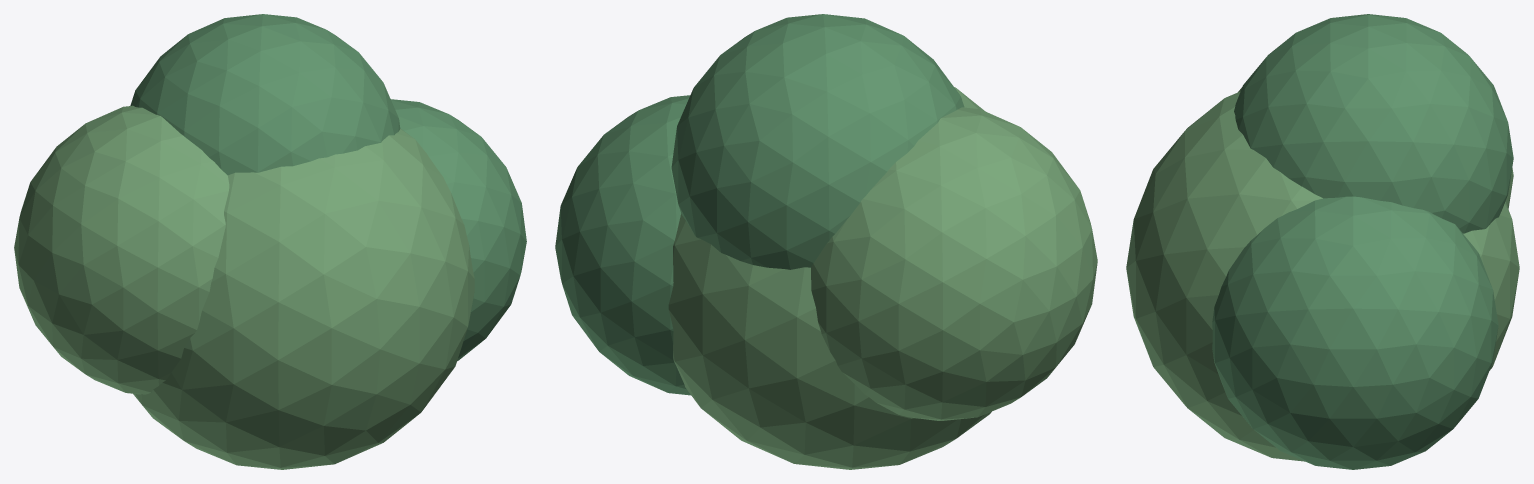
File: tropical_bush.glb
The picture shows the model from 3 angles, left to right: view 1: azimuth 30°, elevation 25°; view 2: azimuth 150°, elevation 25°; view 3: azimuth 270°, elevation 25°; orthographic projection. The views are drawn at different scales.
Visible parts, largest first — view 1: leaf0, leaf2, leaf3, leaf1; view 2: leaf2, leaf3, leaf0, leaf1; view 3: leaf1, leaf3, leaf0.
Part boxes in pixels (x1,y1,x2,y2): leaf0: [133, 129, 474, 469]; leaf2: [14, 105, 229, 394]; leaf3: [130, 14, 400, 175]; leaf1: [391, 99, 526, 360]; leaf2: [811, 107, 1097, 420]; leaf3: [671, 14, 964, 269]; leaf0: [668, 87, 991, 469]; leaf1: [555, 95, 690, 395]; leaf1: [1212, 196, 1498, 469]; leaf3: [1234, 14, 1513, 233]; leaf0: [1126, 91, 1519, 461].
Bounding box in the file's own units: 1.83 × 1.53 × 1.3.
